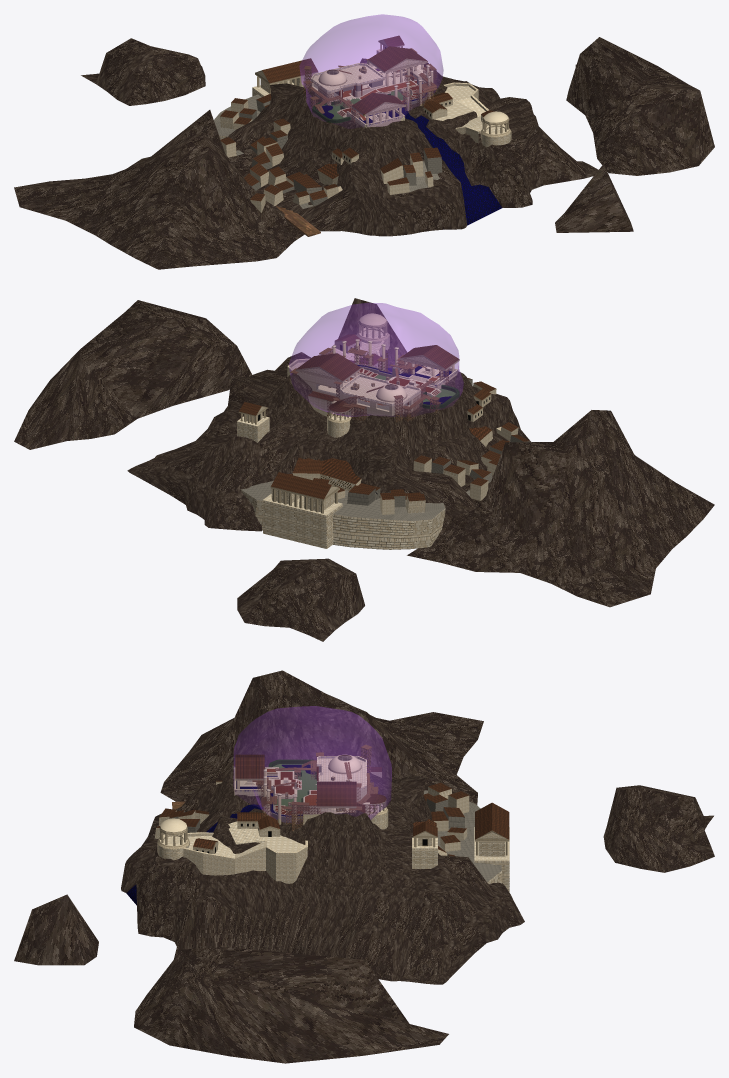
The model's file is escenario.glb.
3 views of the same model, one above another, from view 1: azimuth 30°, elevation 25°; view 2: azimuth 150°, elevation 25°; view 3: azimuth 270°, elevation 25° (orthographic). The views are drawn at different scales.
Visible parts, largest first — view 1: tierra, Barrera, casitas, templos, MAPgeneral, techos, tablas, peldaños, columnas; view 2: tierra, Barrera, casitas, templos, MAPgeneral, techos, peldaños, tablas, templo, columnas; view 3: tierra, Barrera, templos, MAPgeneral, casitas, techos, tablas, peldaños, templo.
Boxes of the visible parts, x1,y1,x2,y2 form: tierra: (14,37,714,269); Barrera: (299,14,443,128); casitas: (214,93,442,212); templos: (252,35,511,164); MAPgeneral: (311,61,430,127); techos: (351,46,427,116); tablas: (276,48,437,236); peldaños: (303,62,436,122); columnas: (355,64,433,125); tierra: (14,298,714,641); Barrera: (289,303,463,416); casitas: (241,378,530,549); templos: (237,313,491,548); MAPgeneral: (297,363,459,416); techos: (295,345,459,382); peldaños: (294,345,448,421); tablas: (290,347,442,410); templo: (327,400,354,437); columnas: (332,339,454,381); tierra: (14,670,714,1063); Barrera: (233,706,391,823); templos: (157,780,509,892); MAPgeneral: (234,754,366,825); casitas: (154,764,501,883); techos: (235,754,356,808); tablas: (172,744,378,810); peldaños: (257,748,377,830); templo: (362,794,388,829).
Bounding box in the file's own units: 545 × 131 × 459.
Materials: 24 (23 with a texture image).
